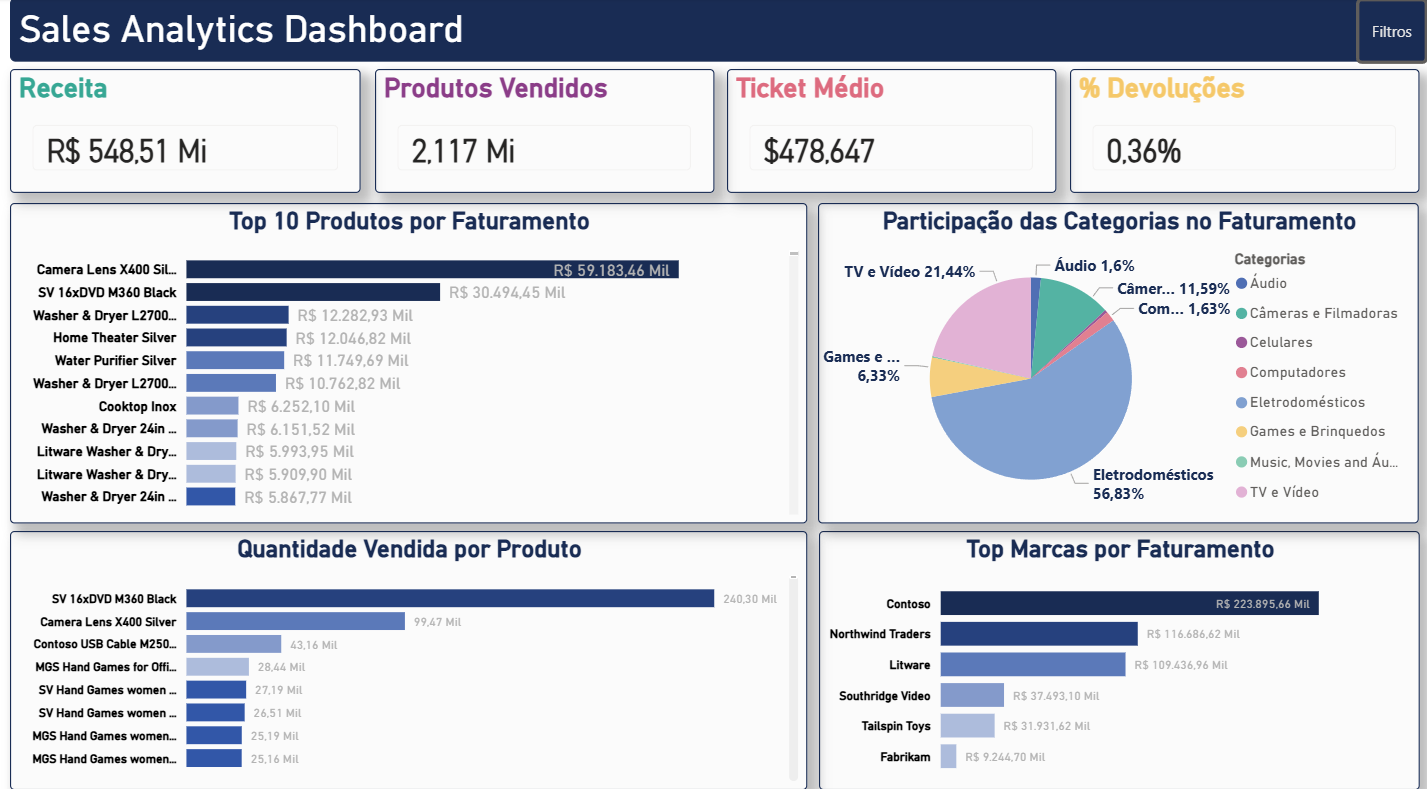

This screenshot's page, from the dashboard's own definition file:
{"tool":"powerbi","page":{"name":"Inicio","canvas":[1280,720],"ordinal":0},"visuals":[{"type":"textbox","box":[10.3,0,1270,56.7],"z":0},{"type":"cardVisual","title":"Receita","fields":{"Data":["Base de Vendas.Fat total"]},"box":[9.9,63.6,303.6,111],"z":1000},{"type":"cardVisual","title":"Produtos Vendidos","fields":{"Data":["Base de Vendas.Total de Vendas"]},"box":[325.1,62.7,304.5,111],"z":2000},{"type":"cardVisual","title":"Ticket Médio","fields":{"Data":["Base de Vendas.Ticket Médio"]},"box":[644.8,63.6,309.9,111],"z":3000},{"type":"cardVisual","title":"% Devoluções","fields":{"Data":["Base de Vendas.% de Devoluções"]},"box":[964.5,64.5,303.6,110.1],"z":4000},{"type":"barChart","title":"Top 10 Produtos por Faturamento","fields":{"Category":["Cadastro de Produtos.Nome Produto"],"Y":["Base de Vendas.Fat total"]},"box":[9.9,182.7,704.8,287.5],"z":5000},{"type":"barChart","title":"Quantidade Vendida por Produto","fields":{"Category":["Cadastro de Produtos.Nome Produto"],"Y":["Sum(Base de Vendas.Qtd. Vendida)"]},"box":[9.9,477.3,704.8,231.9],"z":6000},{"type":"barChart","title":"Top Marcas por Faturamento","fields":{"Category":["Cadastro de Produtos.Marca"],"Y":["Base de Vendas.Fat total"]},"box":[729.9,480.9,538.2,231.9],"z":7000},{"type":"actionButton","box":[1215.5,0,64.5,56.4],"z":8000},{"type":"pieChart","title":"Participação das Categorias no Faturamento","fields":{"Y":["Base de Vendas.Fat total"],"Series":["Cadastro de Produtos.Categoria PT"]},"box":[729.9,185.4,538.2,287.5],"z":9000}]}

Visuals, with their boxes in screenshot pixels (x1, y1, x2, y2), scaled from the page's 1280x720 canvas onto the 1427x789 screenshot:
textbox: <bbox>11, 0, 1426, 62</bbox>
"Receita" cardVisual: <bbox>11, 70, 350, 191</bbox>
"Produtos Vendidos" cardVisual: <bbox>362, 69, 702, 190</bbox>
"Ticket Médio" cardVisual: <bbox>719, 70, 1064, 191</bbox>
"% Devoluções" cardVisual: <bbox>1075, 71, 1414, 191</bbox>
"Top 10 Produtos por Faturamento" barChart: <bbox>11, 200, 797, 515</bbox>
"Quantidade Vendida por Produto" barChart: <bbox>11, 523, 797, 777</bbox>
"Top Marcas por Faturamento" barChart: <bbox>814, 527, 1414, 781</bbox>
actionButton: <bbox>1355, 0, 1426, 62</bbox>
"Participação das Categorias no Faturamento" pieChart: <bbox>814, 203, 1414, 518</bbox>
